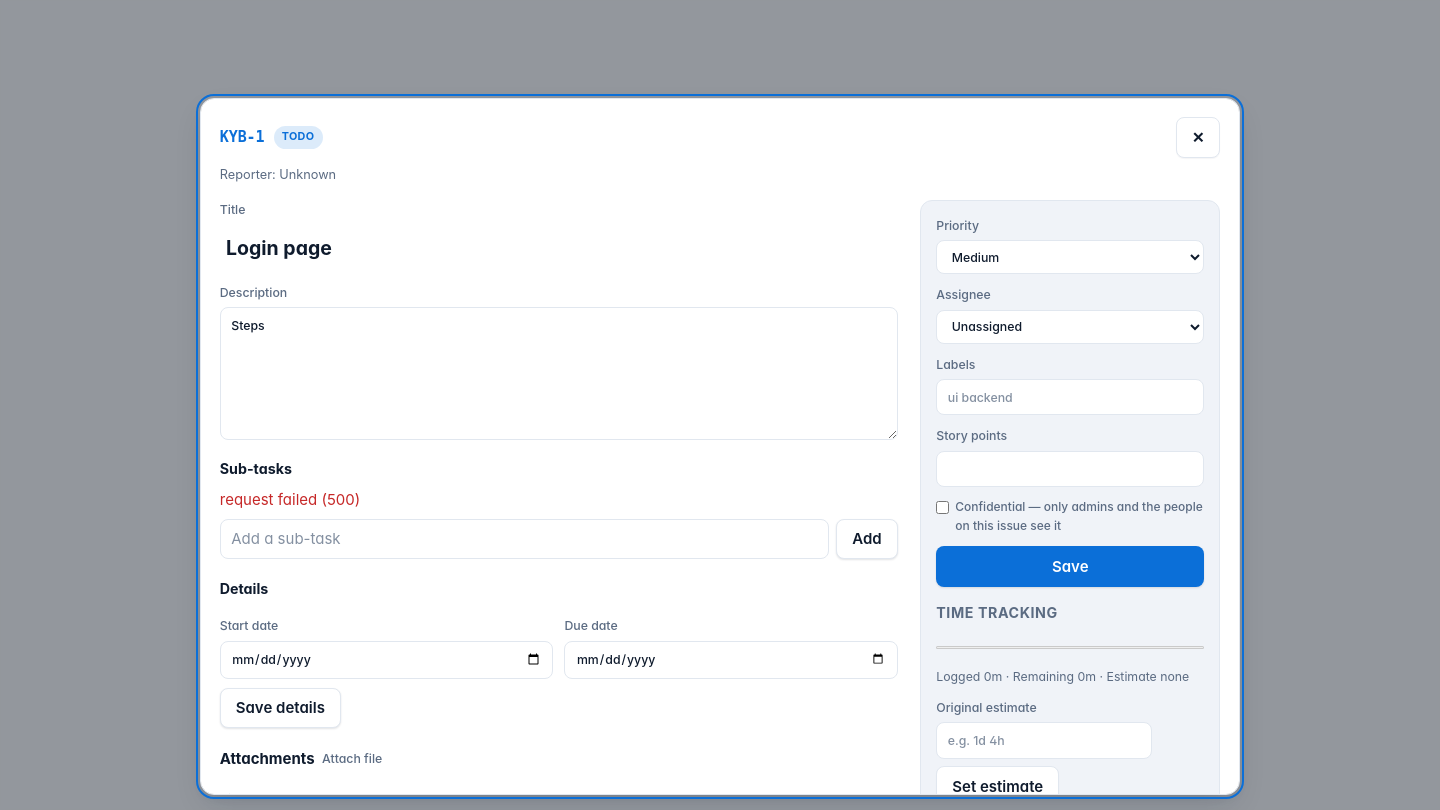
Test: IssuePanel (KYB-S17) › AC2: a 409 conflict explains and reloads the latest version
Type "!" into the field labelled "Title" at [559, 248], box [220,224,898,271]
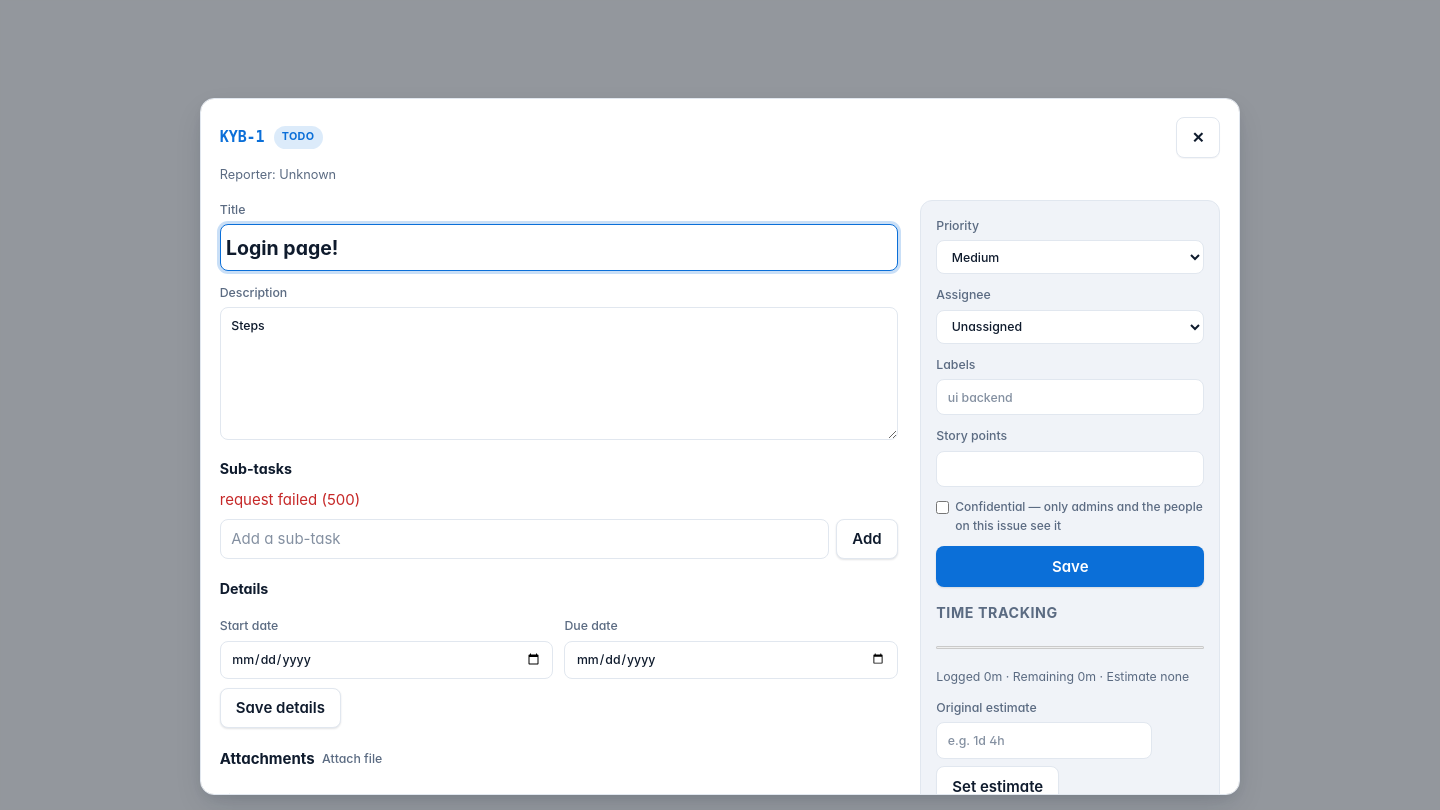
Click the button "Save" at [1070, 567], box [936,546,1204,587]
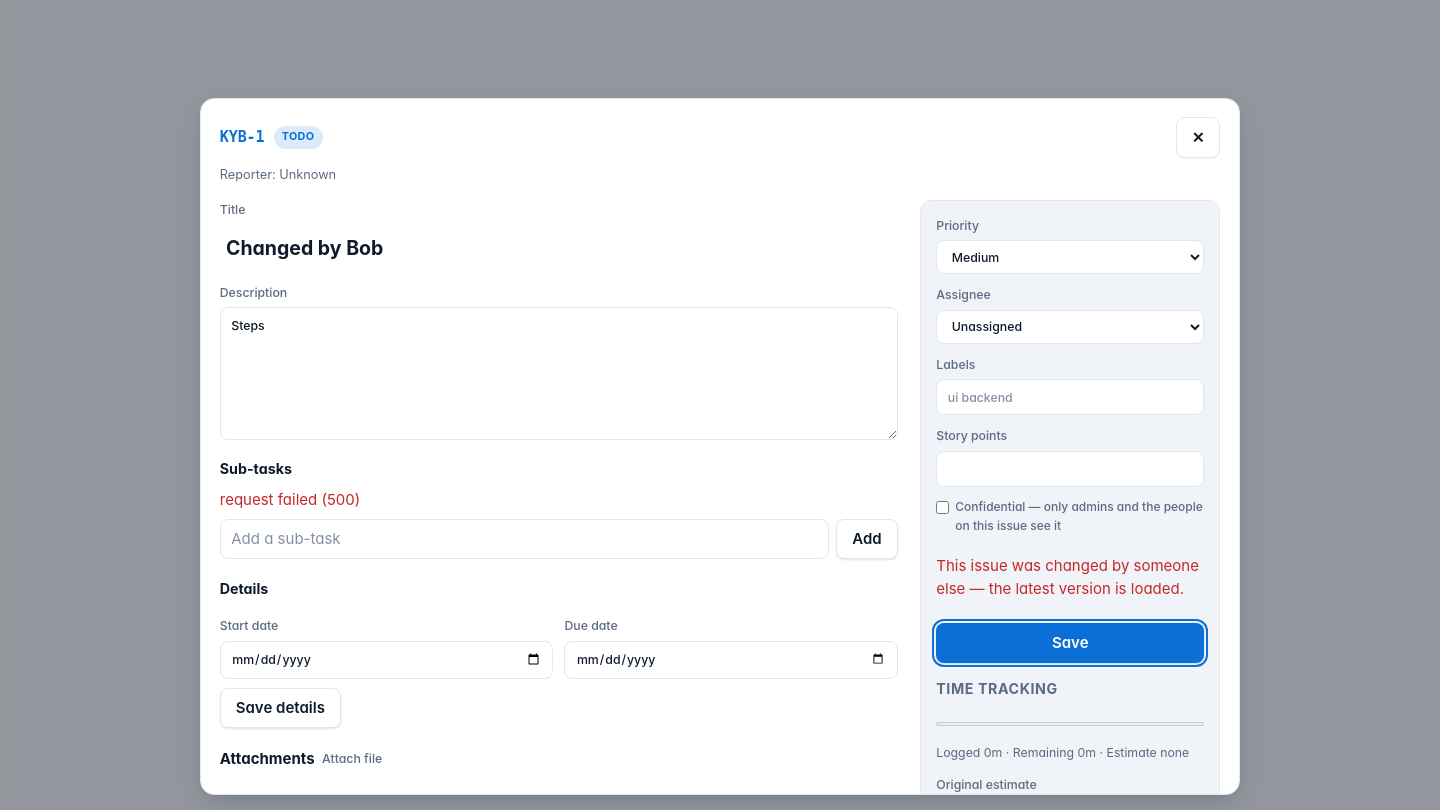
Now the message shows "changed by someone else", box [936,556,1199,598]
Now the field labelled "Title" holds "Changed by Bob", box [220,224,898,271]
